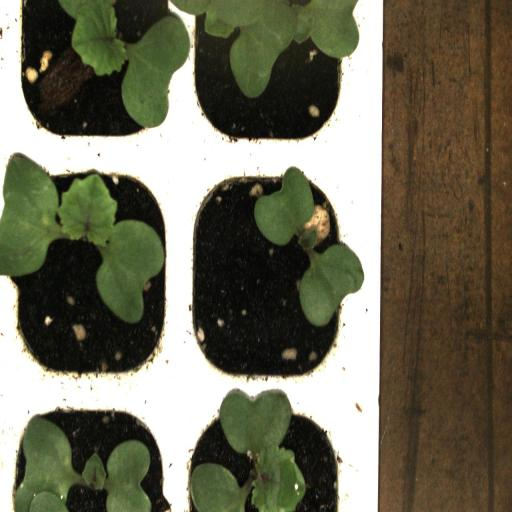seedling: (6, 162, 182, 390), (183, 164, 355, 388), (8, 0, 185, 162), (183, 390, 354, 512)
twoseedling: (188, 0, 355, 156)
